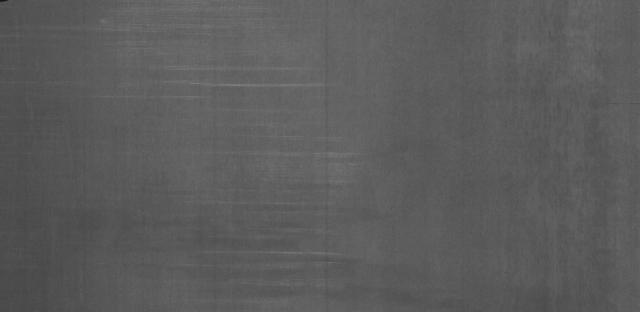waist_folding: (72, 26, 384, 287)
